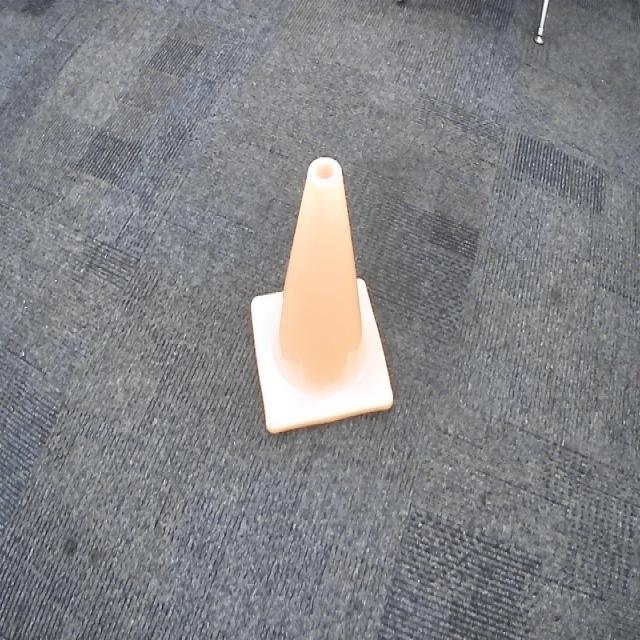cone: (246, 150, 397, 441)
